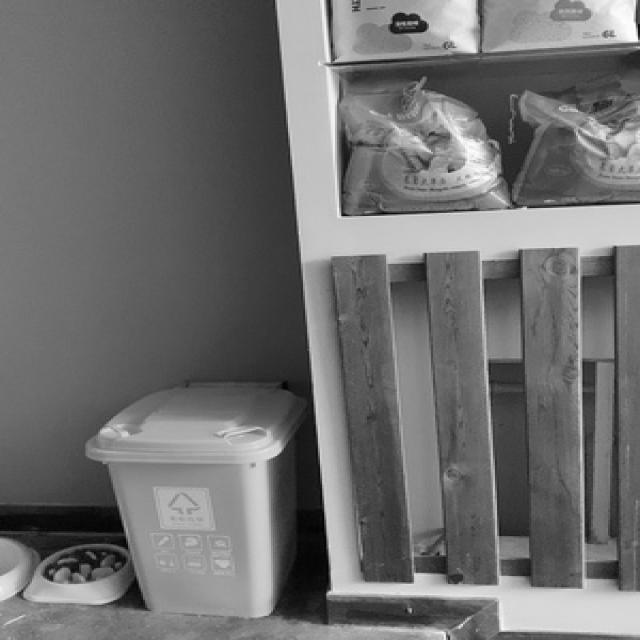ash bin: (79, 378, 311, 614)
